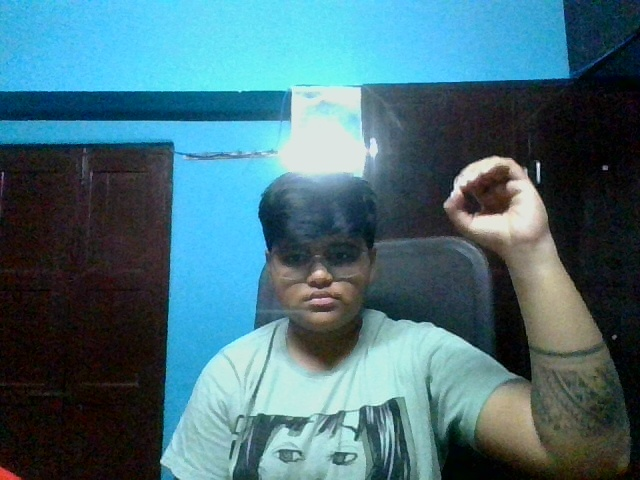O: (436, 151, 554, 256)
